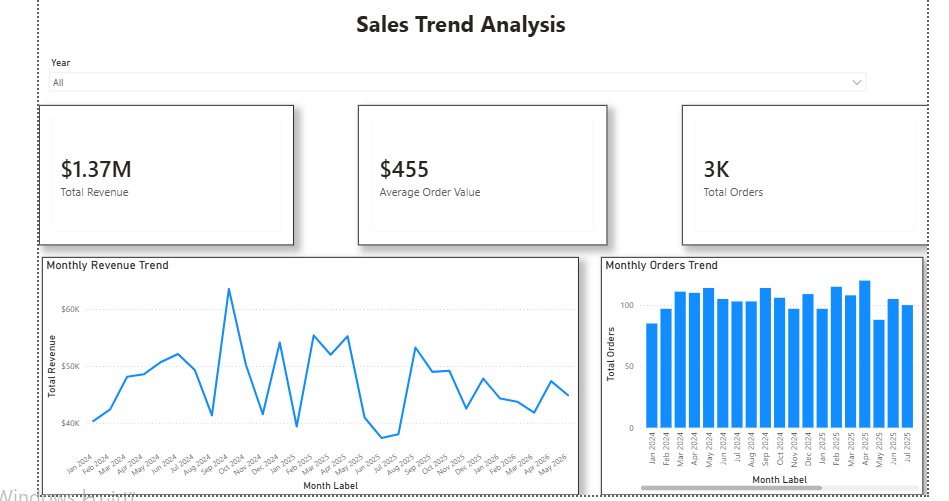

The page's visual inventory and layout, read from the dashboard file:
{"tool":"powerbi","page":{"name":"Sales Trend Analysis","canvas":[1280,720],"ordinal":1},"visuals":[{"type":"lineStackedColumnComboChart","title":"Monthly Revenue Trend","fields":{"Y2":["Measures Table.Total Revenue"],"Category":["Calendar.Month Label"]},"box":[4.3,377.3,773.3,342.7],"z":0},{"type":"slicer","fields":{"Values":["Calendar.Year"]},"box":[4.3,83.5,1196.6,61.9],"z":1000},{"type":"cardVisual","fields":{"Data":["Measures Table.Total Revenue"]},"box":[0,158.4,367.2,201.6],"z":2000},{"type":"cardVisual","fields":{"Data":["Measures Table.Average Order Value"]},"box":[459.4,158.4,358.6,201.6],"z":2001},{"type":"cardVisual","fields":{"Data":["Measures Table.Total Orders"]},"box":[925.9,158.4,354.2,201.6],"z":2002},{"type":"clusteredColumnChart","title":"Monthly Orders Trend","fields":{"Category":["Calendar.Month Label"],"Y":["Measures Table.Total Orders"]},"box":[809.3,377.3,463.7,342.7],"z":2003},{"type":"textbox","box":[296.6,13,622.1,70.6],"z":2004}]}

Visuals, with their boxes on the page's 1280x720 design canvas (x1, y1, x2, y2). These are canvas units, not pixel positions in the 949x501 screenshot, which may show the page scaled, cropped or inside an application window:
"Monthly Revenue Trend" lineStackedColumnComboChart: [4,377,778,720]
slicer - Calendar.Year: [4,84,1201,145]
cardVisual - Measures Table.Total Revenue: [0,158,367,360]
cardVisual - Measures Table.Average Order Value: [459,158,818,360]
cardVisual - Measures Table.Total Orders: [926,158,1280,360]
"Monthly Orders Trend" clusteredColumnChart: [809,377,1273,720]
textbox: [297,13,919,84]
